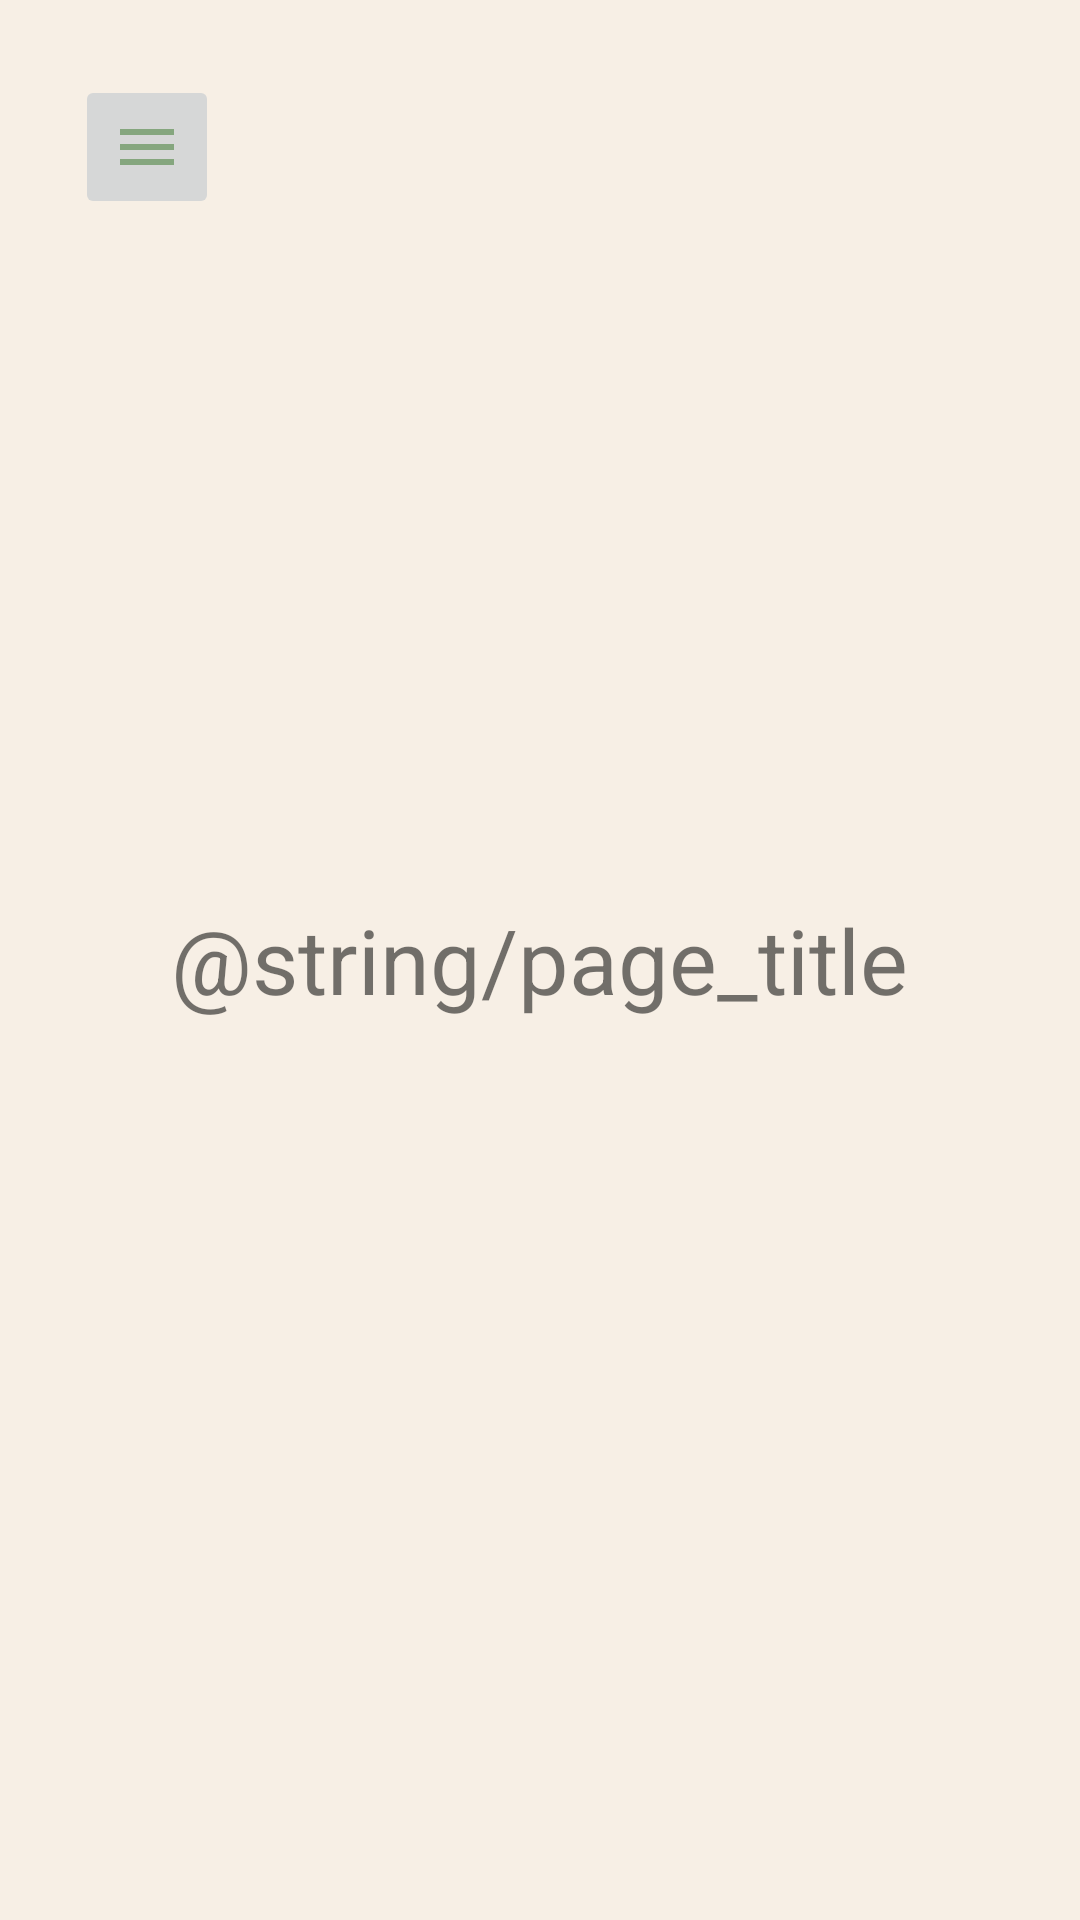

Point at icon controls on the screen. Image size 1080px x 1920px, points as (x=x, y=y).
dashboard menu: (x=147, y=147)
